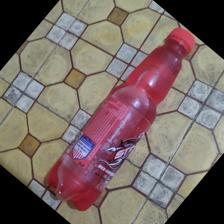Sting: (42, 26, 197, 214)
